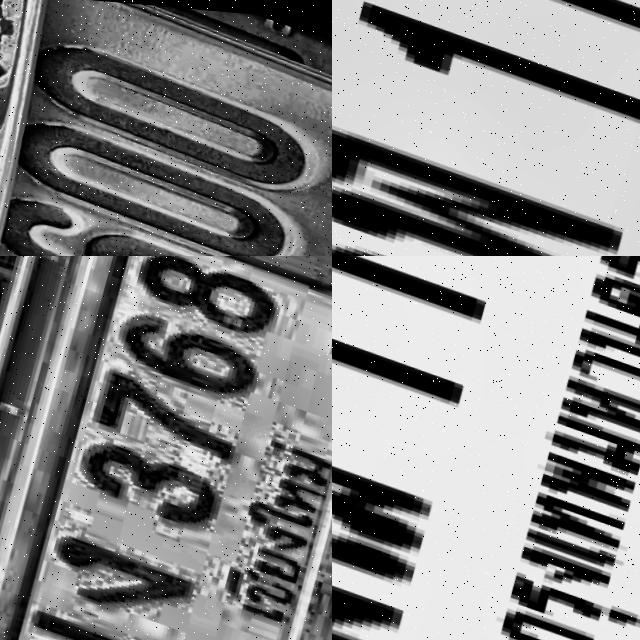license-plate: (0, 256, 332, 640), (332, 256, 640, 640), (0, 0, 332, 256), (332, 0, 640, 256)
